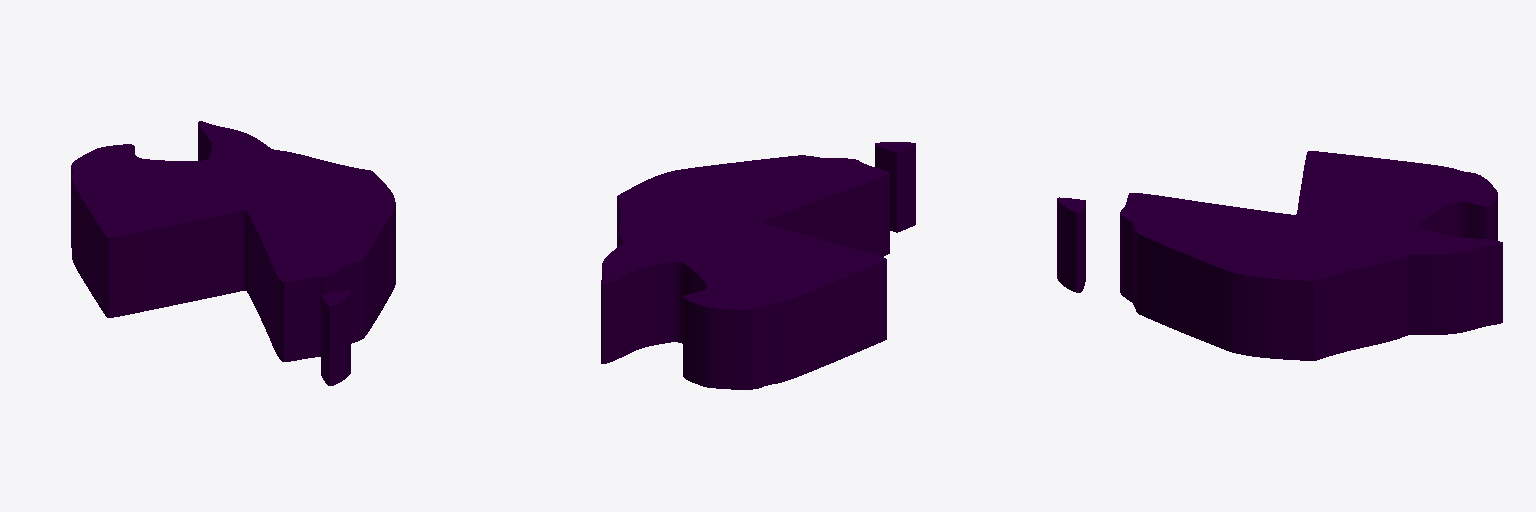
File: Australia_01.obj
3 views of the same model, side by side, from view 1: azimuth 30°, elevation 25°; view 2: azimuth 150°, elevation 25°; view 3: azimuth 270°, elevation 25° (orthographic).
Parts seen in each view (by area): view 1: Australia_01_path4324; view 2: Australia_01_path4324; view 3: Australia_01_path4324.
Boxes of the visible parts, box(x1,y1,x2,y2) form: Australia_01_path4324: box(71, 121, 395, 385); Australia_01_path4324: box(601, 142, 915, 389); Australia_01_path4324: box(1057, 151, 1502, 360).
Bounding box in the file's own units: 0.3494 × 0.1 × 0.5035.